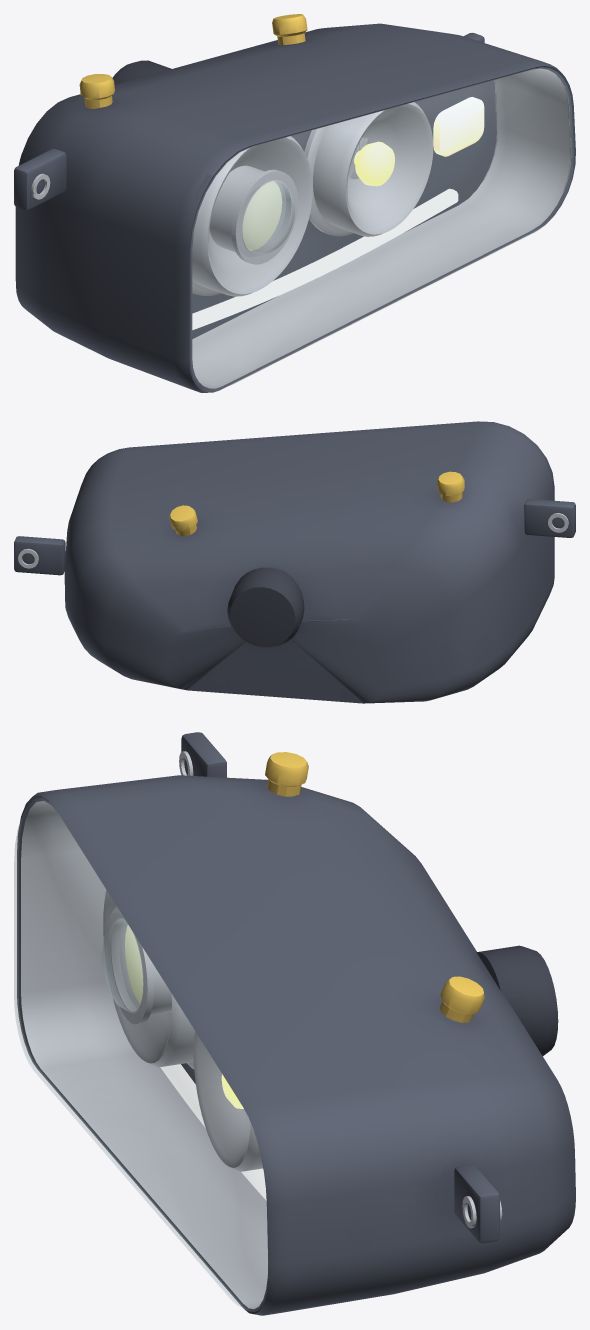
Rendered from headlight.glb.
The picture shows the model from 3 angles, top to bottom: view 1: azimuth 30°, elevation 25°; view 2: azimuth 150°, elevation 25°; view 3: azimuth 270°, elevation 25°; orthographic projection. The views are drawn at different scales.
Parts seen in each view (by area): view 1: headlight_body, headlight_lens_glass, headlight_drl_glow, headlight_bulbs_glow, headlight_projector_glass, headlight_indicator_glow; view 2: headlight_body; view 3: headlight_body, headlight_lens_glass, headlight_projector_glass, headlight_drl_glow, headlight_bulbs_glow.
Part boxes in pixels (x1,y1,x2,y2): headlight_body: (14, 14, 575, 392); headlight_lens_glass: (191, 67, 573, 390); headlight_drl_glow: (192, 188, 458, 330); headlight_bulbs_glow: (243, 141, 394, 250); headlight_projector_glass: (242, 180, 295, 255); headlight_indicator_glow: (433, 97, 484, 156); headlight_body: (14, 421, 575, 703); headlight_body: (17, 732, 575, 1315); headlight_lens_glass: (14, 798, 268, 1311); headlight_projector_glass: (101, 918, 143, 1013); headlight_drl_glow: (160, 1064, 266, 1200); headlight_bulbs_glow: (125, 925, 243, 1108).
Bounding box in the file's own units: 0.4906 × 0.1942 × 0.3297.
Materials: 6 (1 with a texture image).
